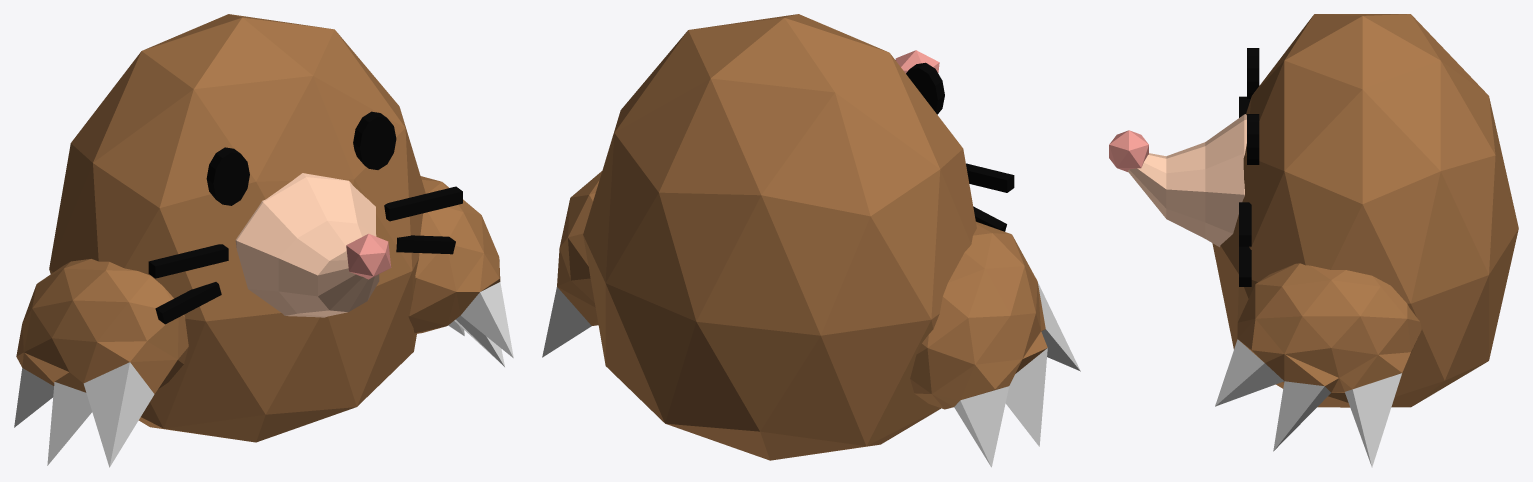
The model's file is mole.glb.
The picture shows the model from 3 angles, left to right: view 1: azimuth 30°, elevation 25°; view 2: azimuth 150°, elevation 25°; view 3: azimuth 270°, elevation 25°; orthographic projection. The views are drawn at different scales.
Visible parts, largest first — view 1: Body, LeftHand, Nose, RightHand, Cubo.008, eye01.006, eye01.007, NoseTip; view 2: Body, LeftHand, RightHand, Cubo.008, eye01.006; view 3: Body, RightHand, Nose, Cubo.008, NoseTip, eye01.007, eye01.006.
Boxes of the visible parts, box(x1,y1,x2,y2) form: Body: box(49, 14, 425, 442); LeftHand: box(14, 259, 188, 467); Nose: box(235, 173, 379, 317); RightHand: box(408, 176, 513, 366); Cubo.008: box(148, 186, 462, 324); eye01.006: box(206, 147, 249, 205); eye01.007: box(353, 111, 396, 169); NoseTip: box(346, 233, 391, 279); Body: box(583, 14, 976, 460); LeftHand: box(910, 221, 1080, 467); RightHand: box(542, 171, 601, 357); Cubo.008: box(966, 163, 1014, 231); eye01.006: box(906, 62, 944, 114); Body: box(1212, 14, 1518, 407); RightHand: box(1215, 263, 1421, 467); Nose: box(1128, 114, 1246, 247); Cubo.008: box(1239, 96, 1251, 286); NoseTip: box(1109, 130, 1148, 171); eye01.007: box(1247, 114, 1259, 164); eye01.006: box(1247, 48, 1259, 98).
Bounding box in the file's own units: 3.08 × 2.53 × 2.62.
Materials: 1 (1 with a texture image).
